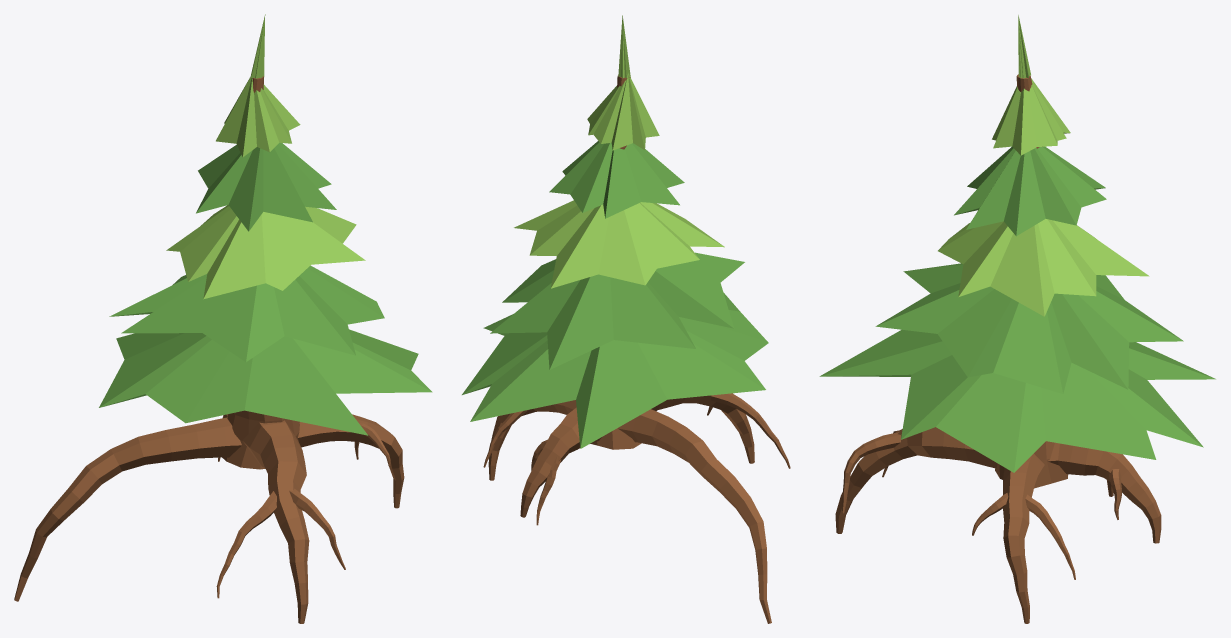
Rendered from pine4.fbx.
3 renders of one model, left to right at view 1: azimuth 30°, elevation 25°; view 2: azimuth 150°, elevation 25°; view 3: azimuth 270°, elevation 25°, orthographic. The views are drawn at different scales.
Visible parts, largest first — view 1: TreeLeaves, TreeWood; view 2: TreeLeaves, TreeWood; view 3: TreeLeaves, TreeWood.
Part boxes in pixels (<box>): TreeLeaves: <box>99,14,432,435</box>; TreeWood: <box>14,76,404,623</box>; TreeLeaves: <box>462,15,768,448</box>; TreeWood: <box>483,75,790,623</box>; TreeLeaves: <box>819,15,1215,472</box>; TreeWood: <box>835,74,1161,623</box>.
Size of the model in its own units: 4.88 by 7.47 by 4.61.
